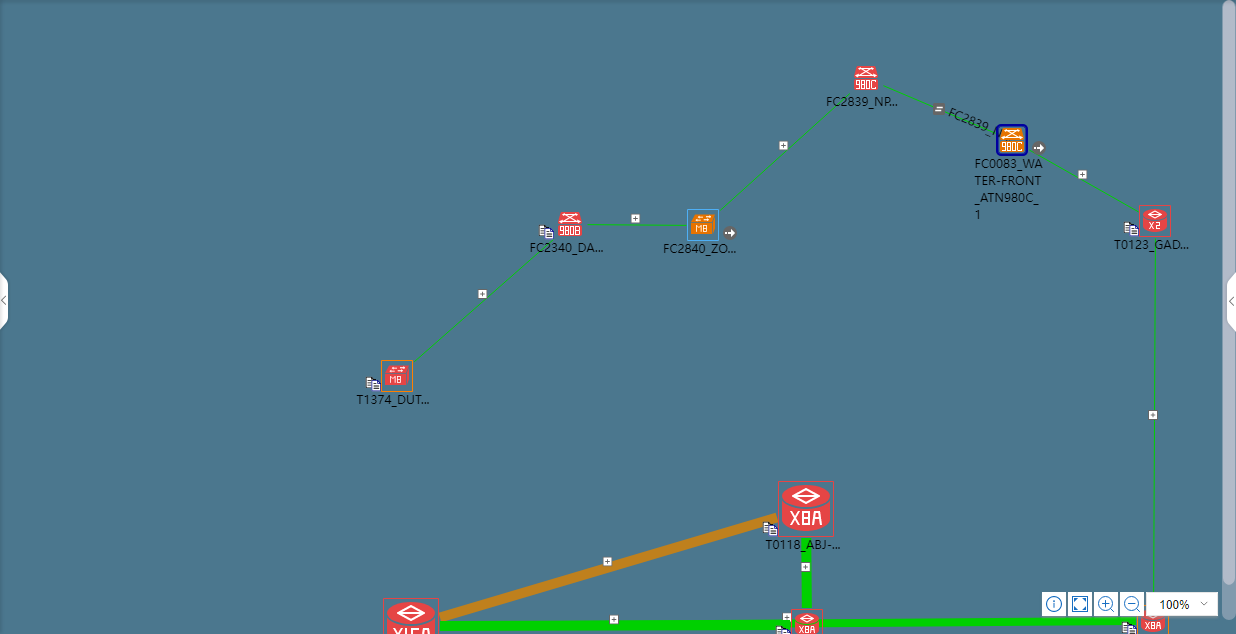ATN_Orange: (995, 125, 1027, 155)
ATN_Red: (557, 212, 582, 237), (854, 66, 878, 90)
Link_Green: (414, 239, 558, 364), (720, 91, 855, 213), (1032, 147, 1138, 213), (883, 82, 994, 135), (439, 620, 790, 632), (824, 616, 1136, 628), (1152, 238, 1158, 592), (799, 539, 812, 607), (585, 223, 688, 228)
Link_Orange: (437, 513, 778, 621)
Router_Red: (779, 481, 833, 535), (384, 601, 438, 633), (1139, 205, 1170, 236), (789, 610, 823, 633), (1139, 617, 1166, 633)
Switch_Orange: (687, 210, 718, 236)
Switch_Red: (386, 364, 410, 387)
